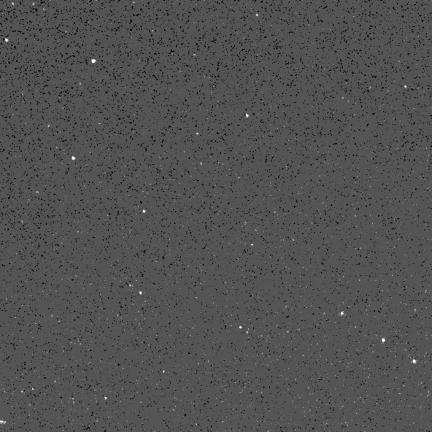blob: (92, 59, 96, 63), (139, 292, 143, 295), (5, 38, 8, 42), (413, 360, 416, 364), (240, 326, 243, 330), (382, 338, 385, 342), (246, 114, 249, 118), (341, 312, 344, 315), (72, 157, 75, 160), (105, 397, 108, 400), (143, 210, 145, 213)
